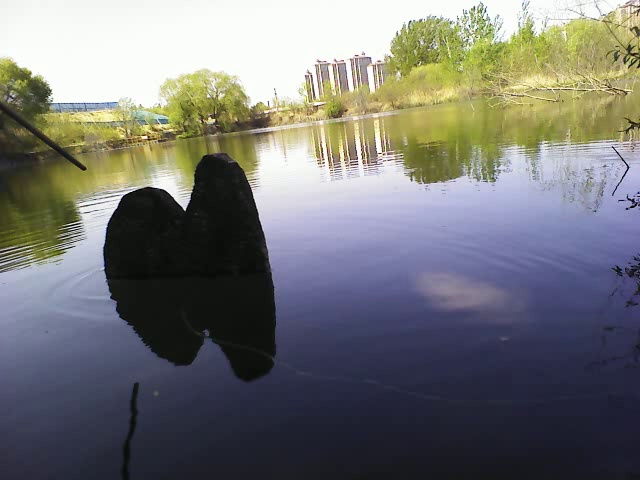rock: (94, 144, 275, 279)
